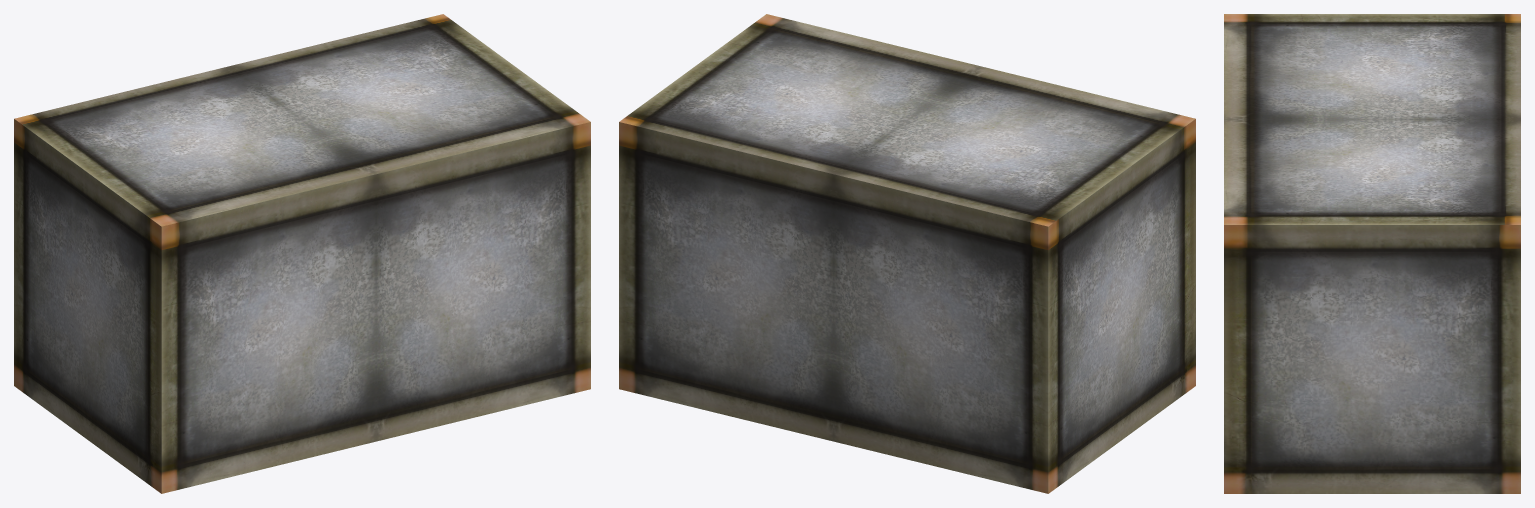
File: barrierbox.fbx
3 views of the same model, side by side, from view 1: azimuth 30°, elevation 25°; view 2: azimuth 150°, elevation 25°; view 3: azimuth 270°, elevation 25° (orthographic).
Visible parts, largest first — view 1: polySurface6; view 2: polySurface6; view 3: polySurface6.
Boxes of the visible parts, x1,y1,x2,y2 form: polySurface6: (14, 14, 590, 493); polySurface6: (619, 14, 1195, 493); polySurface6: (1224, 14, 1520, 493).
Size of the model in its own units: 4.98 by 2.96 by 2.96.
